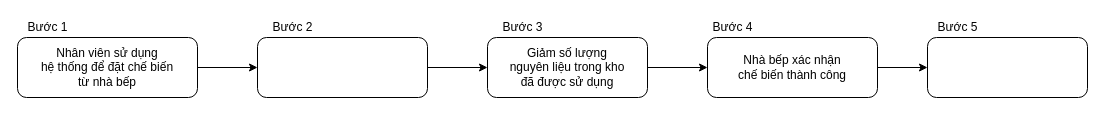
Some shapes in this 1105 by 115 pixel diagram are drawn without their labels. The centre of each missing label's shape, as x and y in pixels:
Nhà bếp xác nhận yêu cầu và lây nguyên liệu từ nhà kho để thực hiện: (x=342, y=67)
Tăng số lượng món ăn đã được yêu cầu chế biến: (x=1007, y=67)
